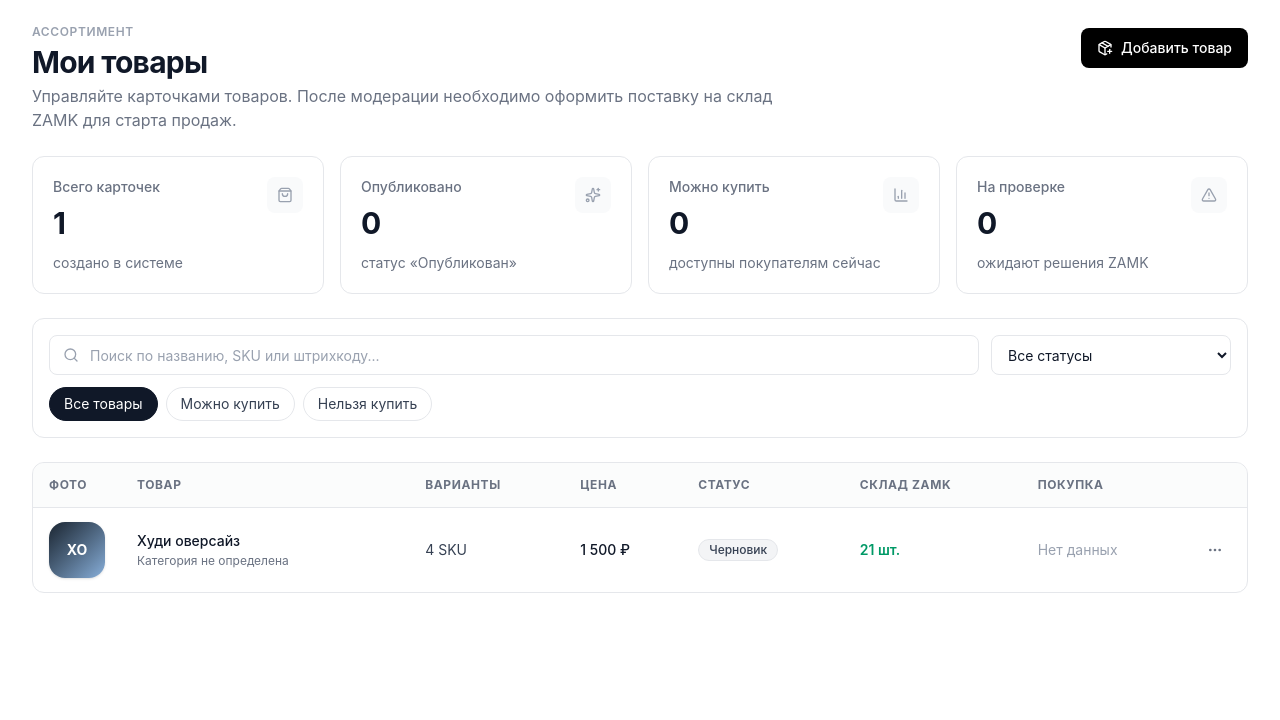
Test: SellerProducts - Quick View Truth + Safe Existing Actions › F: empty description section is hidden entirely
Click the text "Худи оверсайз" at (189, 540), box [137, 532, 240, 549]
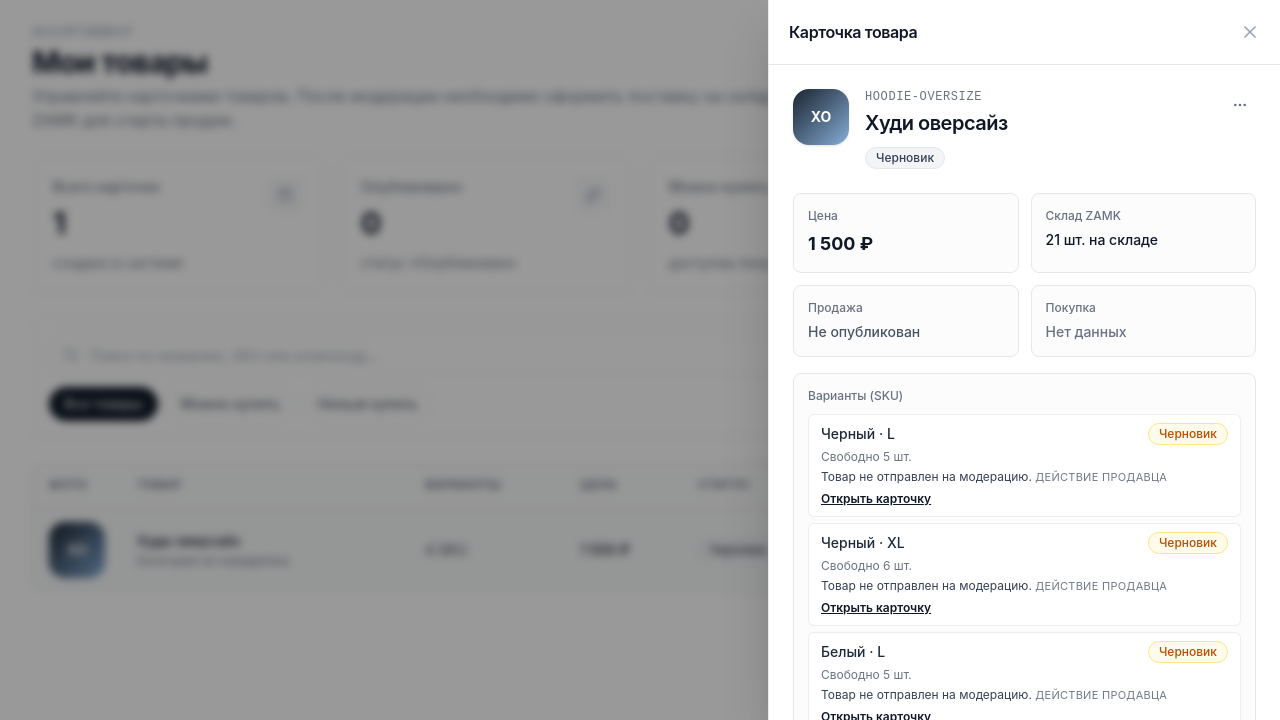
Expected: the element with test id "seller-product-drawer" is shown
